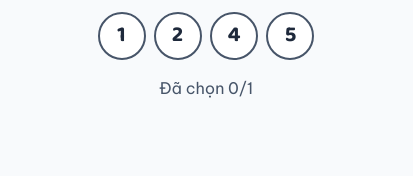
Scenario: Chips › marks a wrong pick gently, reveals nothing and lets the child try again
What coordinates should you click on to do the following:
click the button "1"
I would click on:
 (122, 36)
Its box is [98, 12, 146, 60].
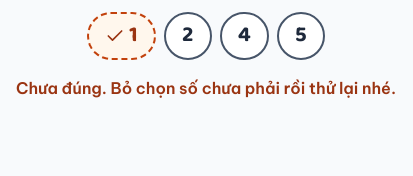
Now the text "Chưa đúng. Bỏ chọn số chưa phải rồi thử lại nhé." is shown, box [16, 76, 396, 100]
What coordinates should you click on to do the following:
click the button "4"
I would click on:
 (244, 36)
Its box is [220, 12, 269, 60].
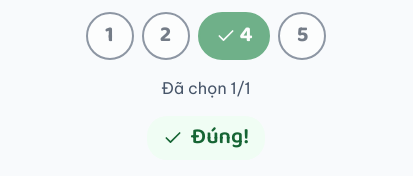
Now the text "Đúng!" is shown, box [147, 116, 265, 160]
Now the button "1" is disabled, box [86, 12, 134, 60]
